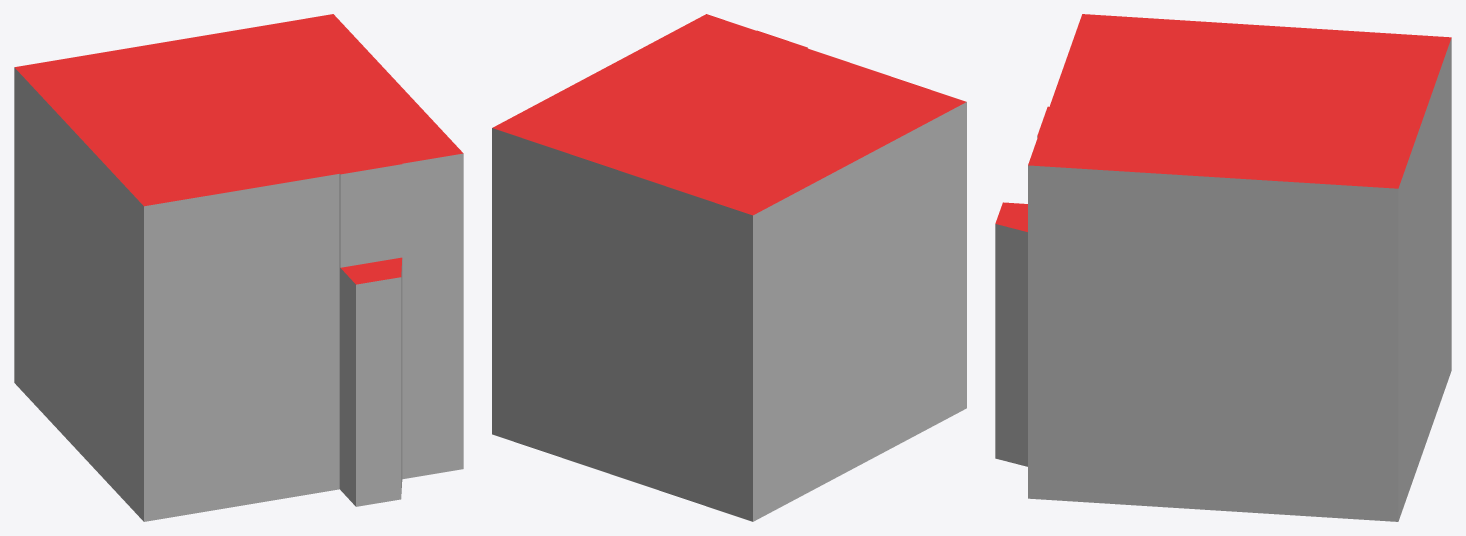
File: DEBY_LOD2_4677486.dae
3 views of the same model, side by side, from view 1: azimuth 30°, elevation 25°; view 2: azimuth 150°, elevation 25°; view 3: azimuth 270°, elevation 25° (orthographic). The views are drawn at different scales.
Size of the model in its own units: 11.18 by 12.34 by 9.94.
